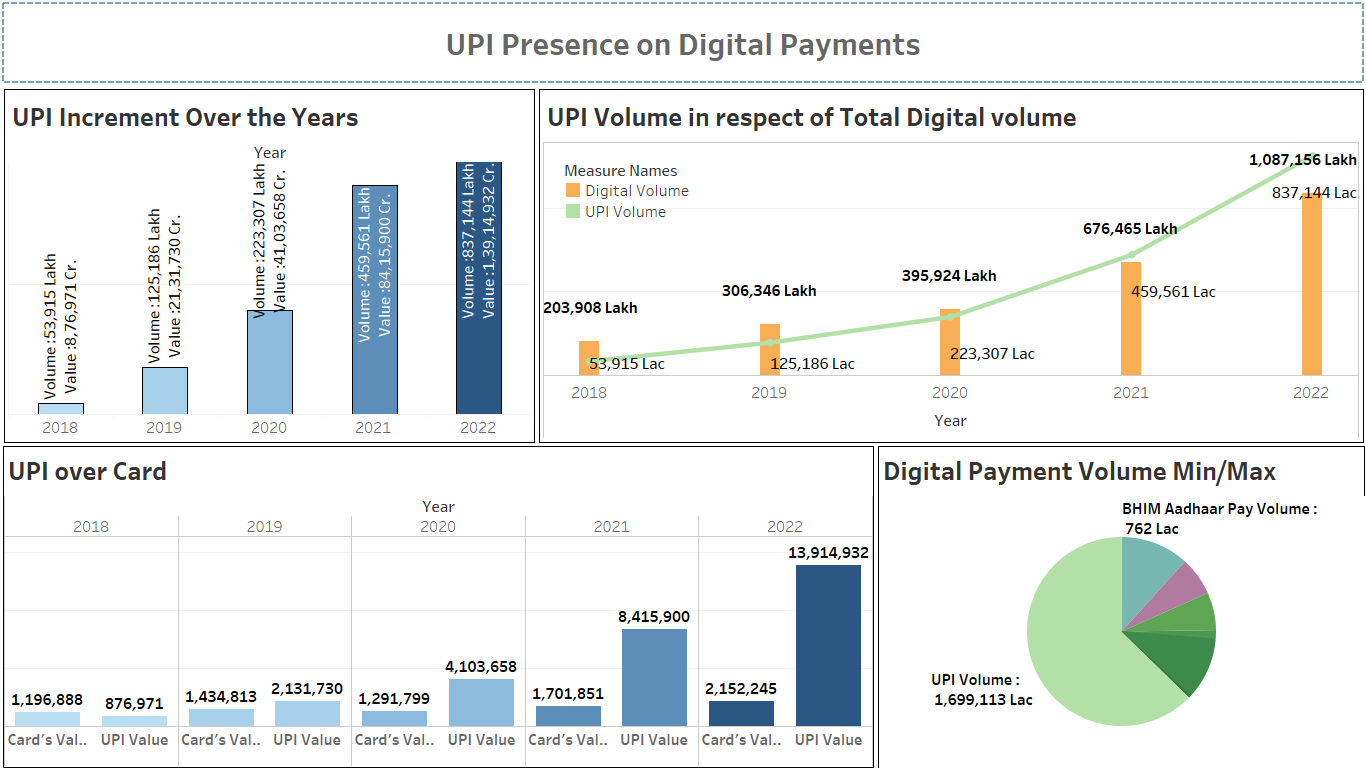

This screenshot's page, from the dashboard's own definition file:
{"tool":"tableau","page":{"name":"UPI Presence on Digital Payments","canvas":[1366,768],"ordinal":0},"visuals":[{"type":"text","box":[1,1,1364,83]},{"type":"worksheet","title":"UPI Increment Over the Years","mark":"Bar","rows":["UPI Value"],"cols":["Year"],"box":[4,89,531,354]},{"type":"worksheet","title":"UPI Volume in respect of Total Digital volume","mark":"Bar","cols":["Year"],"box":[539,89,825,354]},{"type":"legend","title":"UPI Volume in respect of Total Digital volume","param":"[federated.16yf9f90pqfafz13ppv0b0862idn].[:Measure Names]","box":[1222,90,140,64]},{"type":"worksheet","title":"UPI over Card","mark":"Bar","cols":["Year"],"box":[3,446,871,322]},{"type":"worksheet","title":"Digital Payment Volume ","mark":"Pie","box":[876,446,485,324]},{"type":"legend","title":"Digital Payment Volume ","param":"[federated.16yf9f90pqfafz13ppv0b0862idn].[:Measure Names]","box":[1132,571,230,197]}]}

Visuals, with their boxes in screenshot pixels (x1, y1, x2, y2), scaled from the page's 1366x768 canvas onto the 1366x768 screenshot:
text: locate(1, 1, 1365, 84)
"UPI Increment Over the Years" worksheet (Bar marks): locate(4, 89, 535, 443)
"UPI Volume in respect of Total Digital volume" worksheet (Bar marks): locate(539, 89, 1364, 443)
"UPI Volume in respect of Total Digital volume" legend: locate(1222, 90, 1362, 154)
"UPI over Card" worksheet (Bar marks): locate(3, 446, 874, 767)
"Digital Payment Volume " worksheet (Pie marks): locate(876, 446, 1361, 767)
"Digital Payment Volume " legend: locate(1132, 571, 1362, 767)
